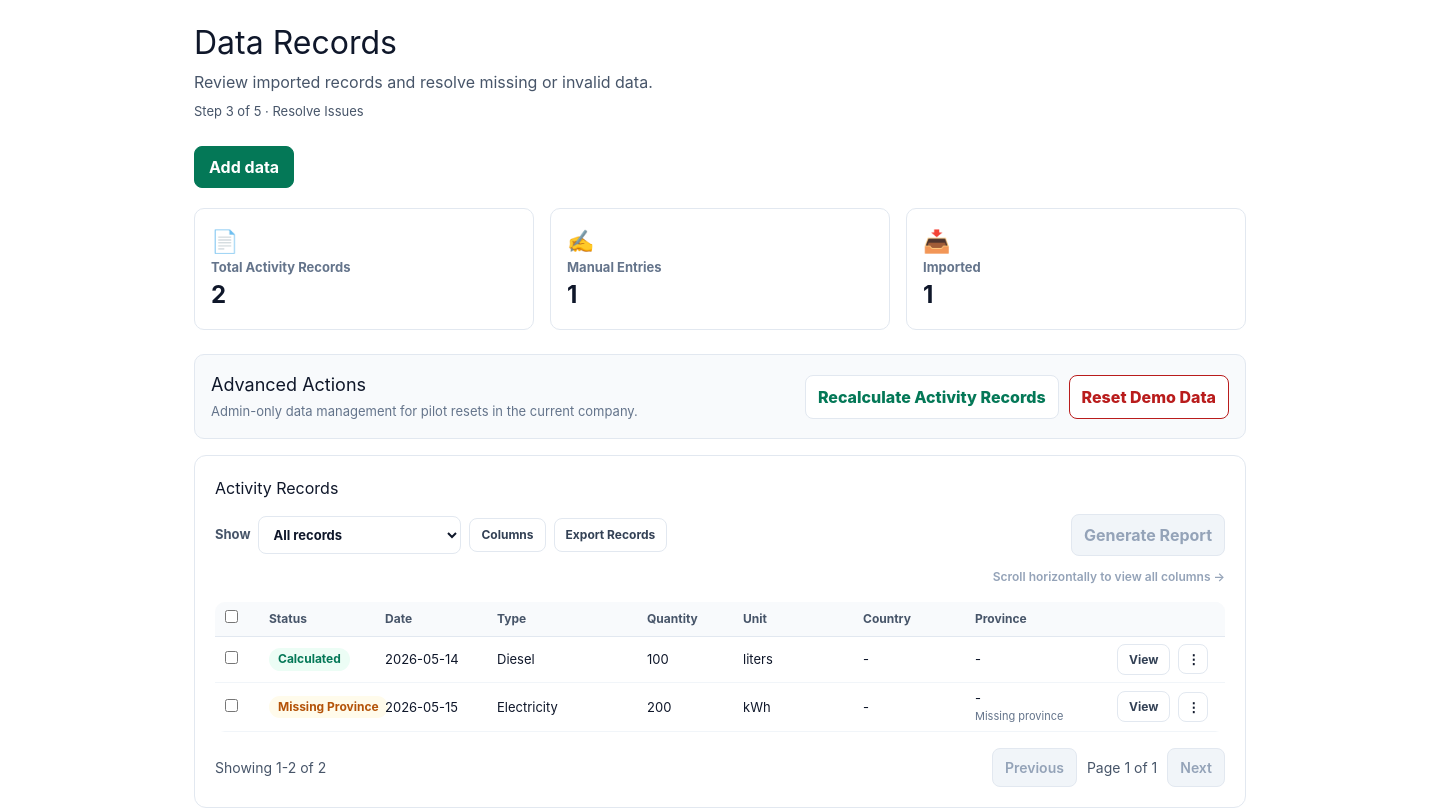
Scenario: ActivityDataPage delete flows › updates the selected count when select-all selects visible rows
Check: the text "Diesel" is shown, box x1=487 y1=636 x2=637 y2=682
Click the 1st checkbox: [232, 616] box x1=225 y1=610 x2=238 y2=623
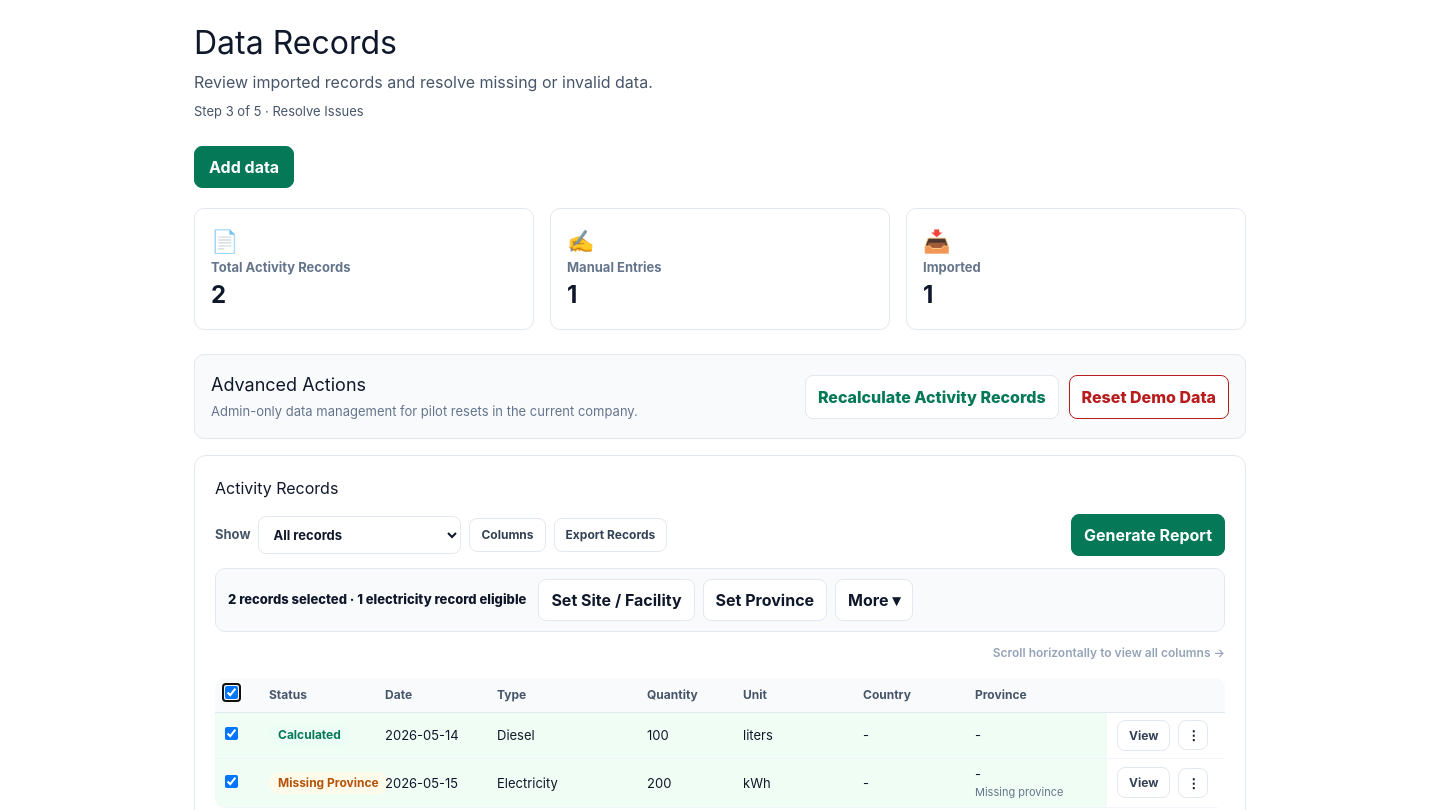
Check: the text "2 records selected · 1 electricity record eligible" is shown, box x1=228 y1=590 x2=526 y2=610
